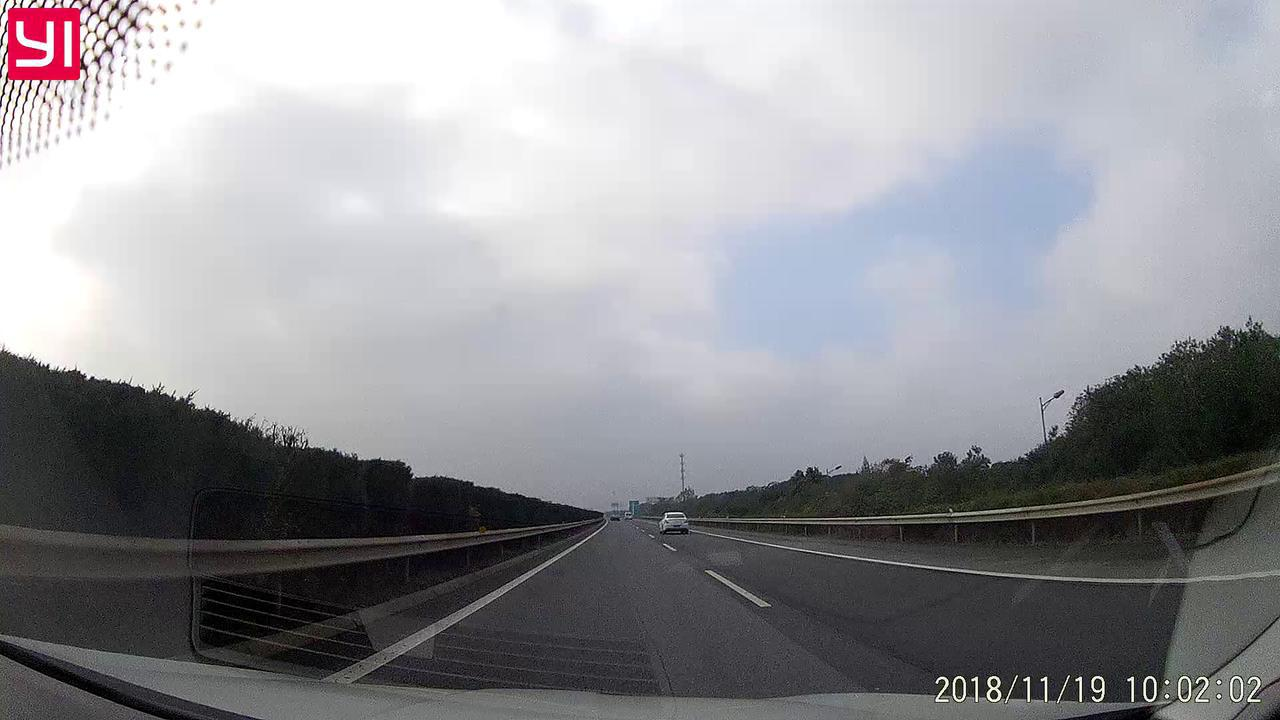car: (656, 512, 689, 535)
